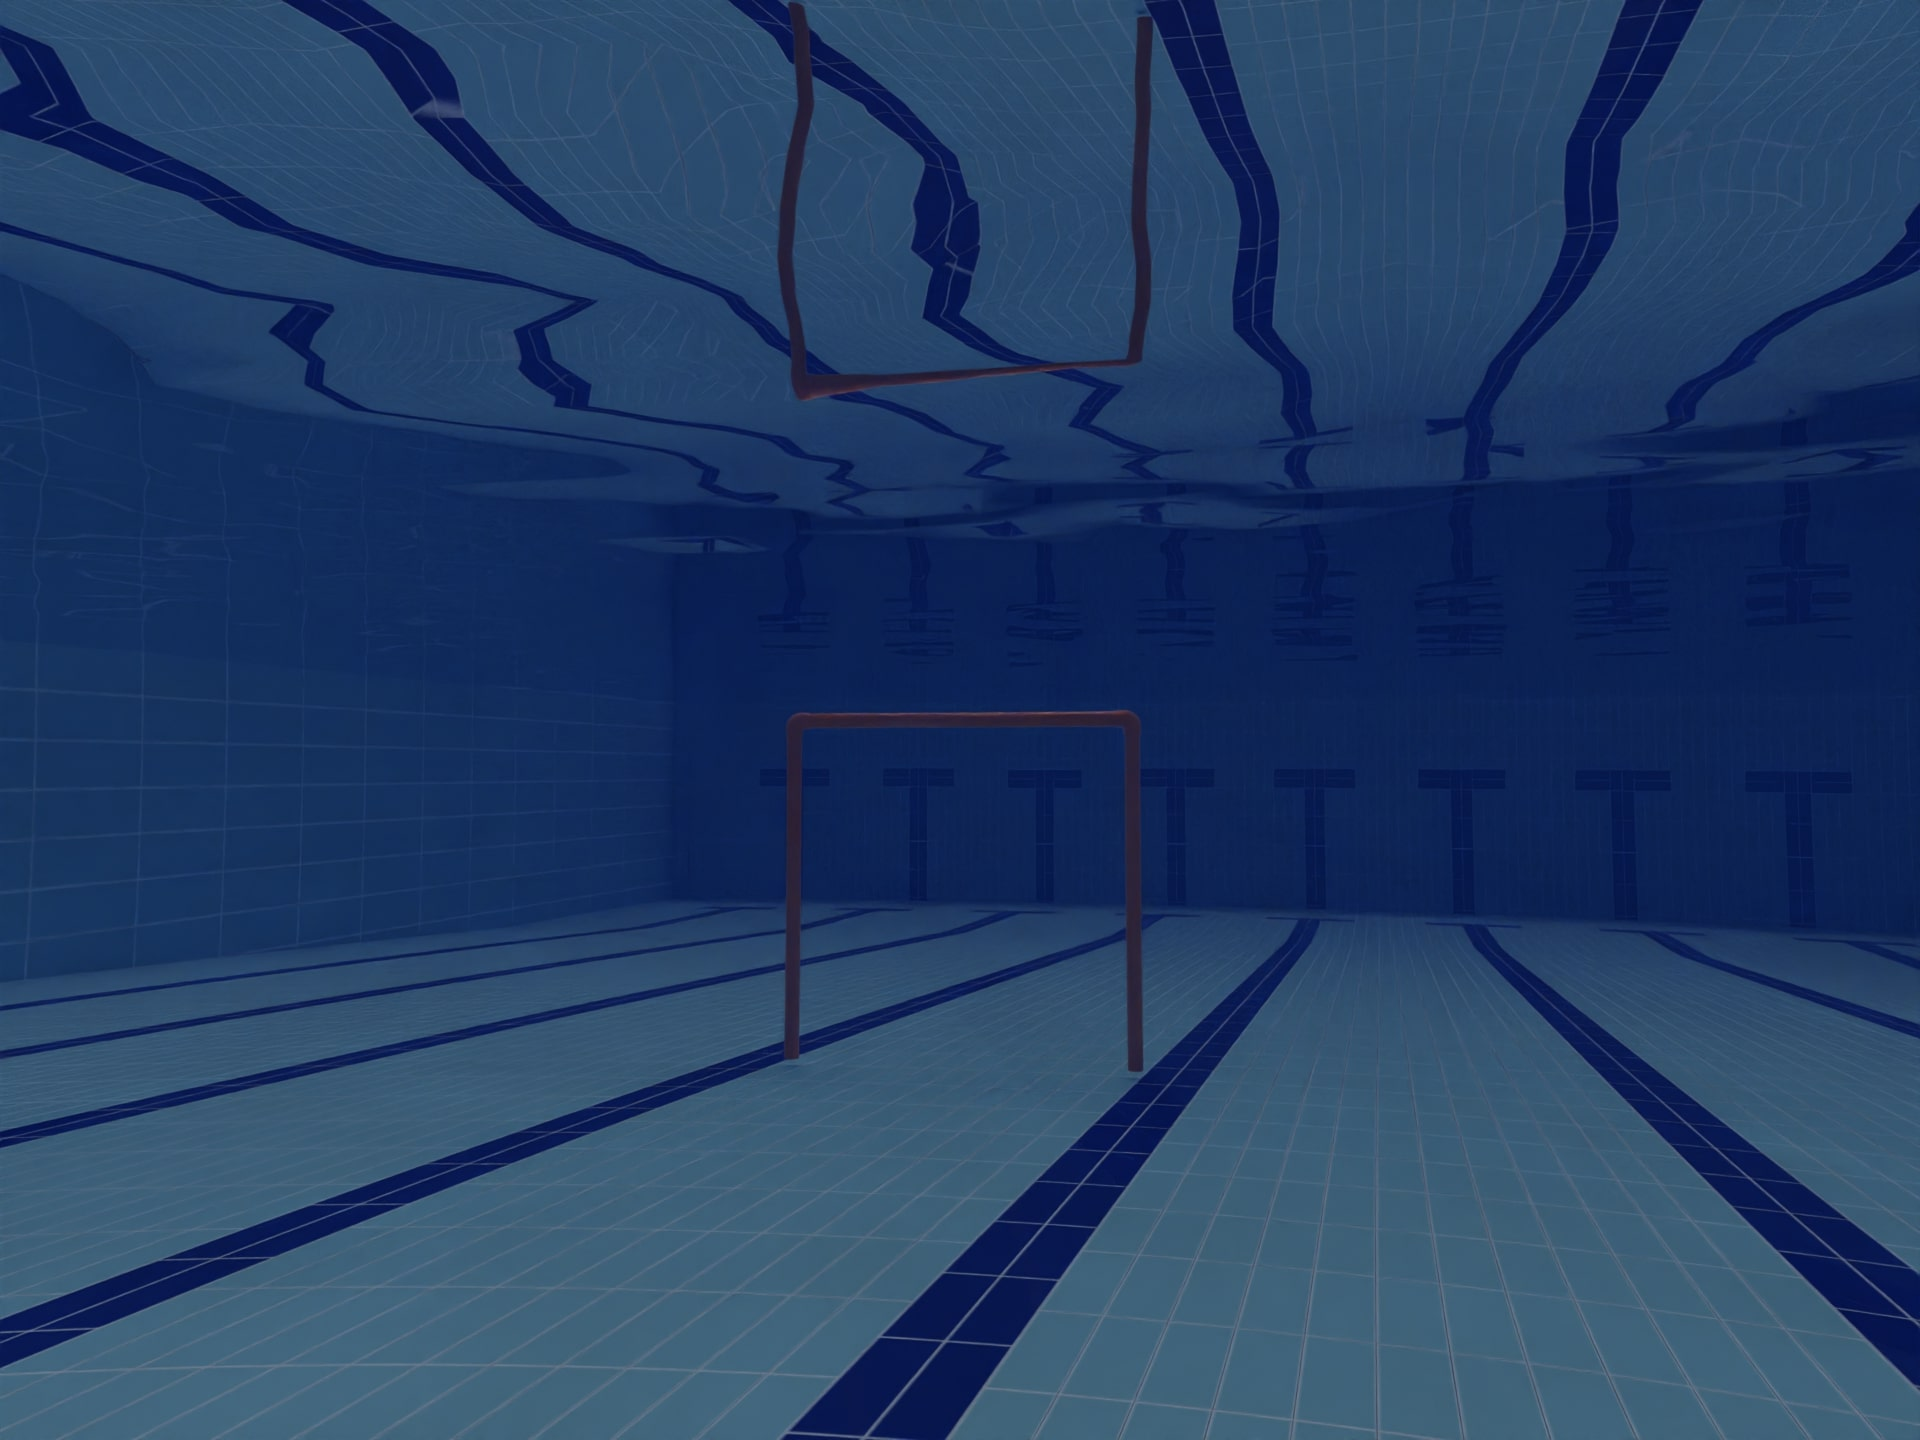gate: (760, 687, 1219, 1091)
